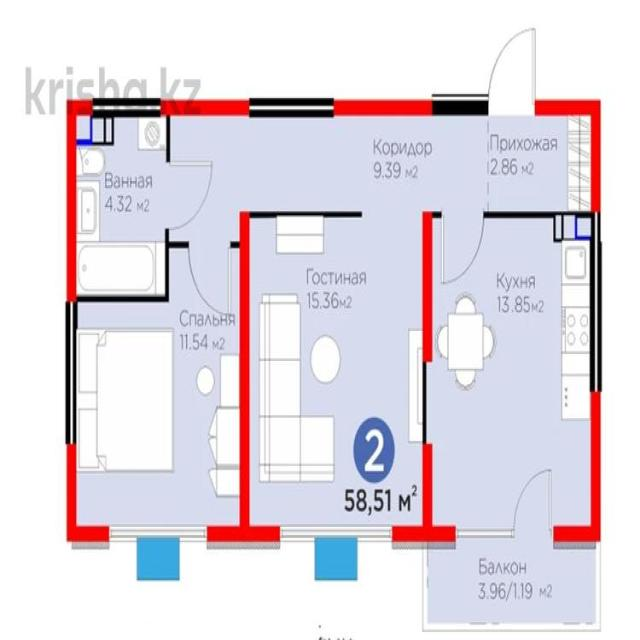balcony: (430, 542, 600, 626)
bathroom: (73, 113, 166, 296)
hallway: (170, 113, 486, 205), (488, 122, 594, 210)
kitchen: (430, 216, 598, 530)
living_room: (248, 214, 428, 531), (75, 302, 245, 527)
